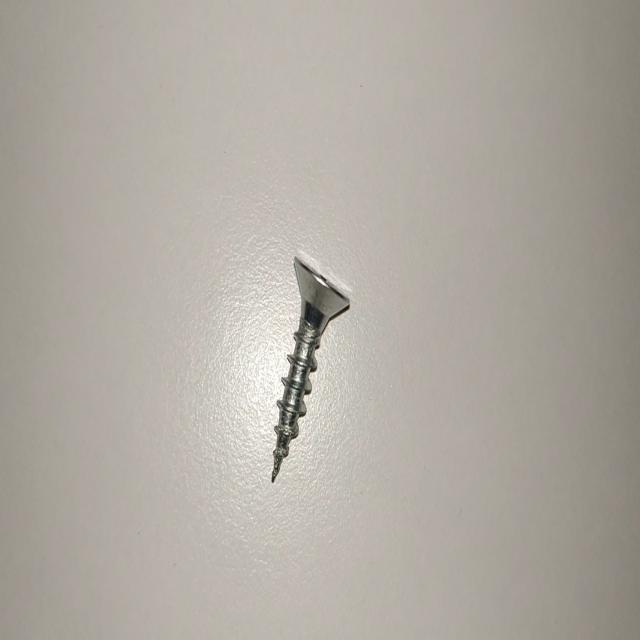Screw: (272, 256, 350, 481)
